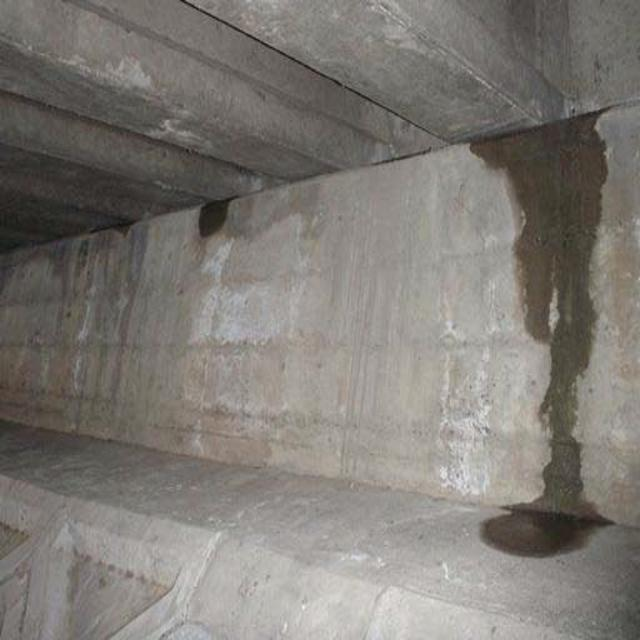leakage: (480, 110, 603, 577), (183, 197, 244, 247)
